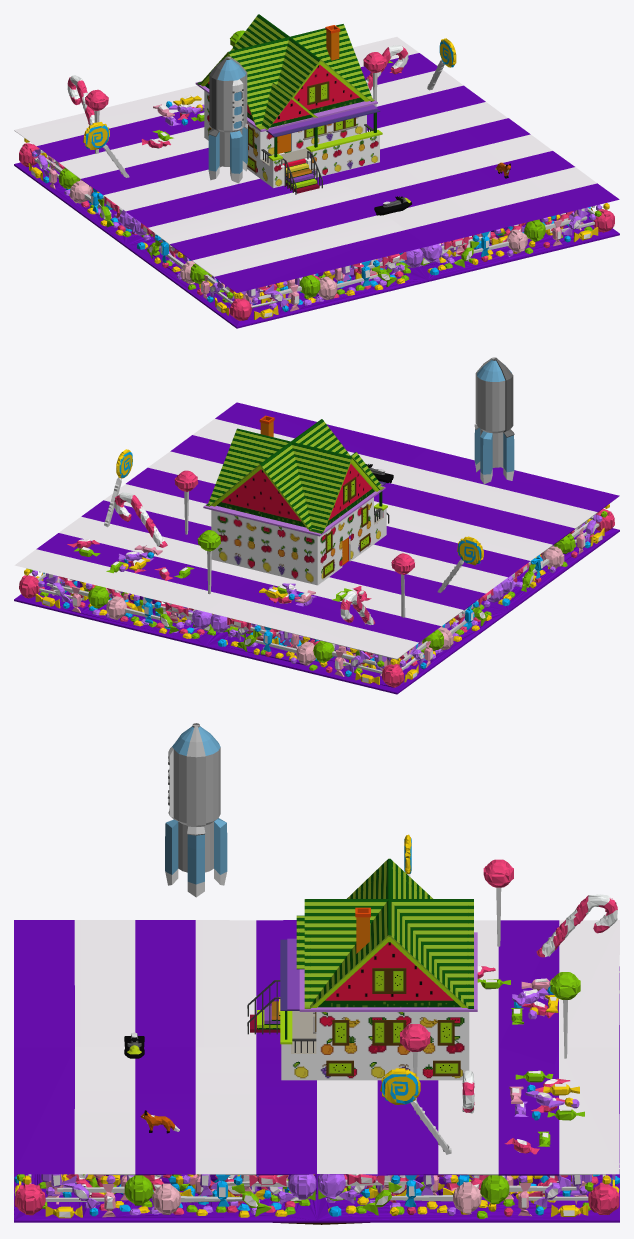
3 renders of one model, top to bottom at view 1: azimuth 30°, elevation 25°; view 2: azimuth 150°, elevation 25°; view 3: azimuth 270°, elevation 25°, orthographic. The views are drawn at different scales.
Parts seen in each view (by area): view 1: TERRAIN_CANDY, Cube.1063, OBJRANDOM_ROCKETSHIP, VEHICLES_WATERBIKE; view 2: TERRAIN_CANDY, Cube.1063, OBJRANDOM_ROCKETSHIP; view 3: TERRAIN_CANDY, Cube.1063, OBJRANDOM_ROCKETSHIP.
Boxes of the visible parts, x1,y1,x2,y2 form: TERRAIN_CANDY: (14, 30, 619, 328); Cube.1063: (195, 14, 382, 194); OBJRANDOM_ROCKETSHIP: (208, 56, 248, 183); VEHICLES_WATERBIKE: (374, 196, 411, 215); TERRAIN_CANDY: (14, 402, 619, 694); Cube.1063: (203, 415, 389, 585); OBJRANDOM_ROCKETSHIP: (474, 357, 514, 484); TERRAIN_CANDY: (14, 834, 619, 1222); Cube.1063: (247, 858, 477, 1080); OBJRANDOM_ROCKETSHIP: (165, 723, 227, 897).
Bounding box in the file's own units: 4059 × 2203 × 4000.
Materials: 26 (4 with a texture image).
